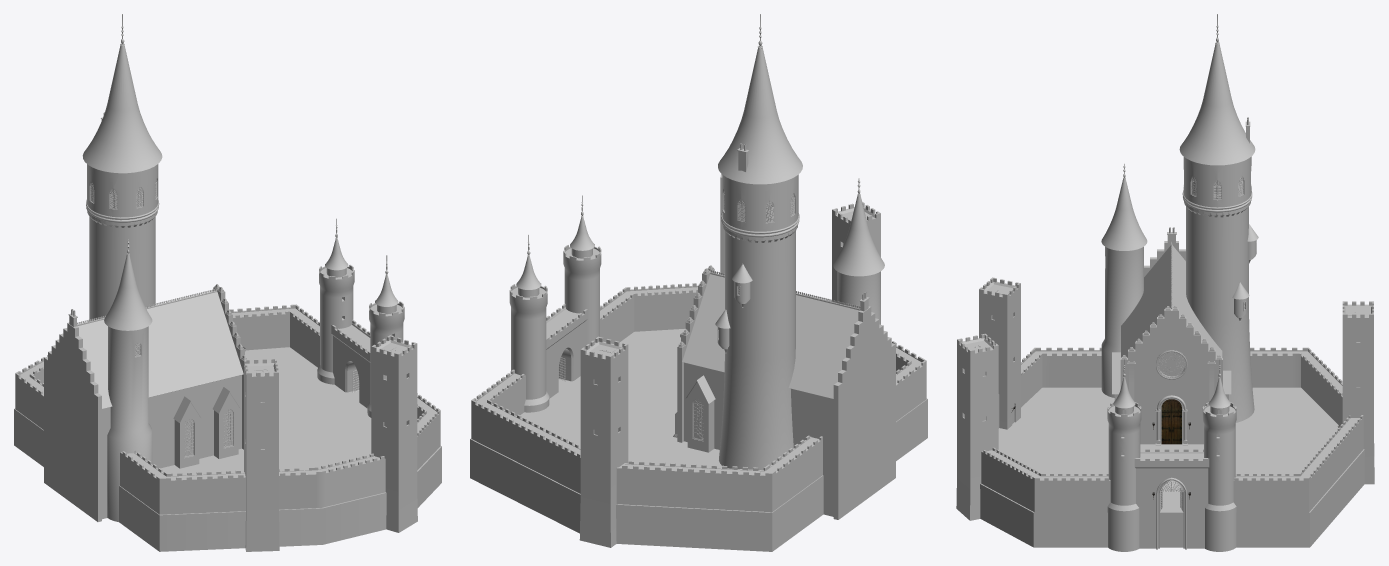
Rendered from Castle.fbx.
The picture shows the model from 3 angles, left to right: view 1: azimuth 30°, elevation 25°; view 2: azimuth 150°, elevation 25°; view 3: azimuth 270°, elevation 25°; orthographic projection. The views are drawn at different scales.
Parts seen in each view (by area): view 1: Castle, Roof, Windows; view 2: Castle, Roof, Windows; view 3: Castle, Roof, Windows, Door.
Boxes of the visible parts, box(x1,y1,x2,y2) form: Castle: box(14, 112, 441, 551); Roof: box(77, 14, 398, 423); Windows: box(90, 178, 233, 456); Castle: box(470, 143, 927, 551); Roof: box(516, 14, 884, 404); Windows: box(693, 190, 794, 440); Castle: box(956, 117, 1374, 551); Roof: box(1101, 14, 1258, 408); Windows: box(1158, 176, 1245, 376); Door: box(1161, 399, 1181, 444).
Bounding box in the file's own units: 2142 × 3010 × 2651.
